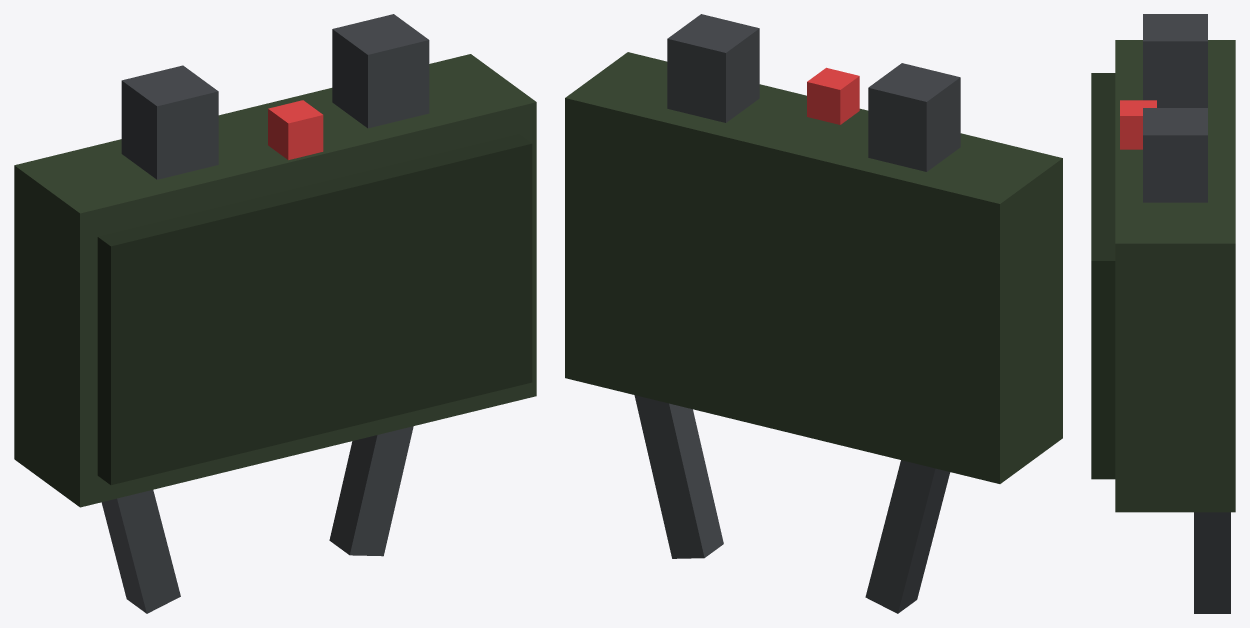
Rendered from gun-claymore.glb.
The picture shows the model from 3 angles, left to right: view 1: azimuth 30°, elevation 25°; view 2: azimuth 150°, elevation 25°; view 3: azimuth 270°, elevation 25°; orthographic projection. The views are drawn at different scales.
Parts seen in each view (by area): view 1: claymore; view 2: claymore; view 3: claymore.
Part boxes in pixels (<box>): claymore: <box>14,14,536,613</box>; claymore: <box>565,14,1062,613</box>; claymore: <box>1091,14,1235,613</box>.
Bounding box in the file's own units: 0.26 × 0.2897 × 0.078.
